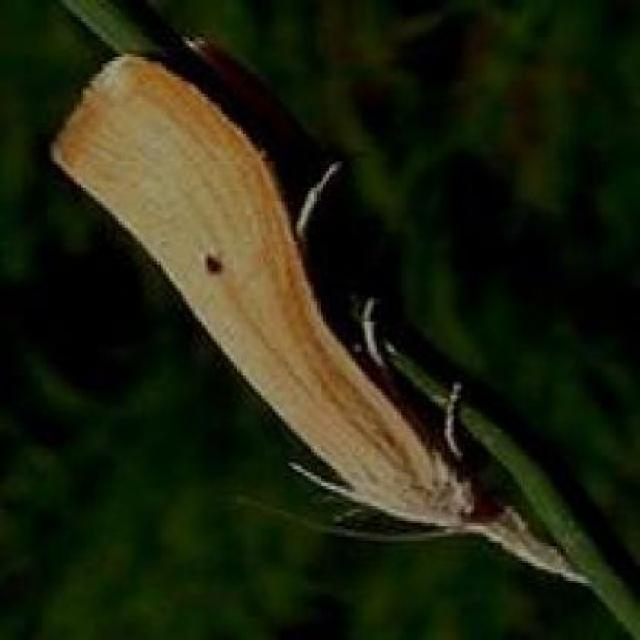stem-borer: (44, 44, 599, 593)
